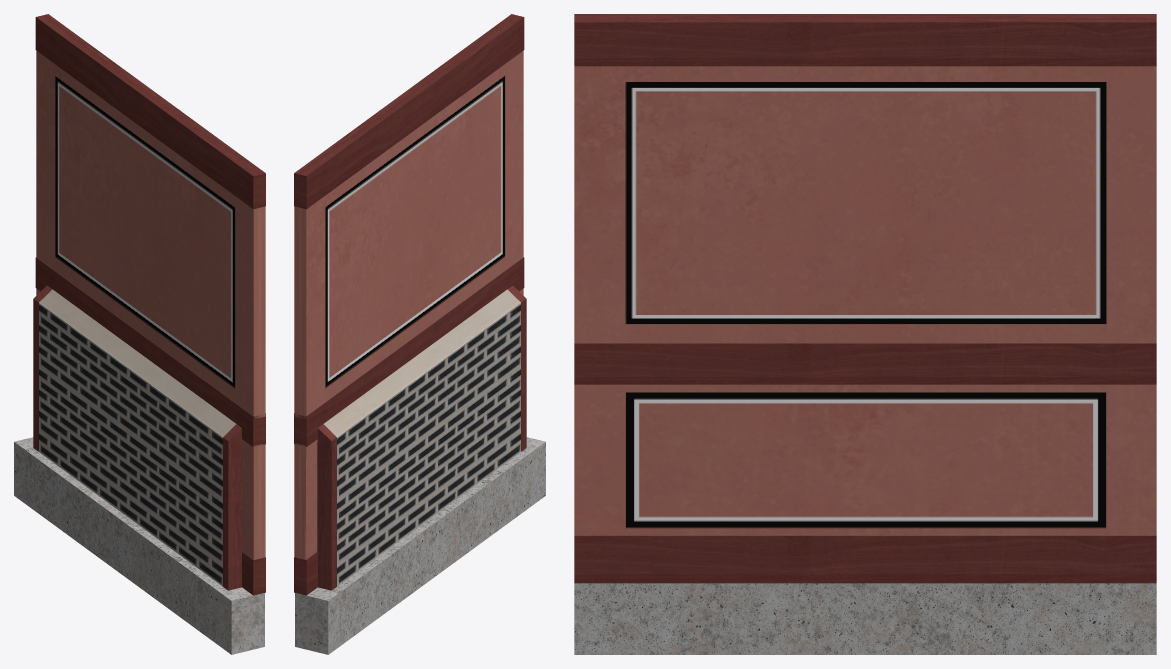
The model's file is SM_Wall07A.fbx.
The picture shows the model from 3 angles, left to right: view 1: azimuth 30°, elevation 25°; view 2: azimuth 150°, elevation 25°; view 3: azimuth 270°, elevation 25°; orthographic projection. The views are drawn at different scales.
Visible parts, largest first — view 1: SM_Wall07A; view 2: SM_Wall07A; view 3: SM_Wall07A.
Part boxes in pixels (bbox=[...]): SM_Wall07A: bbox=[14, 14, 265, 654]; SM_Wall07A: bbox=[294, 14, 545, 654]; SM_Wall07A: bbox=[574, 14, 1156, 654].
Bounding box in the file's own units: 24.59 × 270 × 324.
